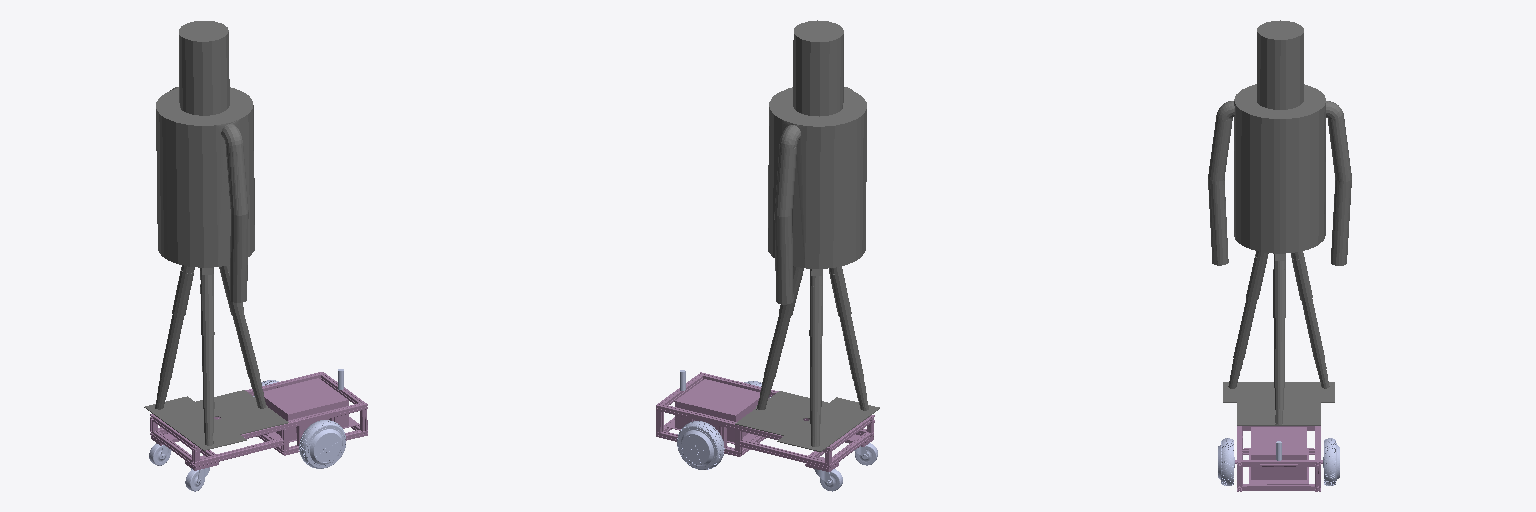
URDF robot description (sophia):
<?xml version="1.0" encoding="utf-8"?>
<!-- This URDF was automatically created by SolidWorks to URDF Exporter! Originally created by [author] ([email redacted]) 
     Commit Version: 1.6.0-4-g7f85cfe  Build Version: 1.6.7995.38578
     For more information, please see http://wiki.ros.org/sw_urdf_exporter -->
<robot
  name="sophia">
  <link
    name="base_link">
    <inertial>
      <origin
        xyz="-0.015616 0.00021121 0.043204"
        rpy="0 0 0" />
      <mass
        value="11" />
      <inertia
        ixx="0.044664"
        ixy="-9.2397E-05"
        ixz="-0.0019638"
        iyy="0.14818"
        iyz="3.5651E-05"
        izz="0.17986" />
    </inertial>
    <visual>
      <origin
        xyz="0 0 0"
        rpy="0 0 0" />
      <geometry>
        <mesh
          filename="package://sophia/meshes/base_link.STL" />
      </geometry>
      <material
        name="">
        <color
          rgba="0.68627 0.56078 0.68627 1" />
      </material>
    </visual>
    <collision>
      <origin
        xyz="0 0 0"
        rpy="0 0 0" />
      <geometry>
        <mesh
          filename="package://sophia/meshes/base_link.STL" />
      </geometry>
    </collision>
  </link>
  <link
    name="left_wheel">
    <inertial>
      <origin
        xyz="6.0018E-10 -0.030086 1.3569E-08"
        rpy="0 0 0" />
      <mass
        value="1.5" />
      <inertia
        ixx="0.0015953"
        ixy="-1.1272E-10"
        ixz="-1.5097E-10"
        iyy="0.0028925"
        iyz="-3.0787E-10"
        izz="0.0015953" />
    </inertial>
    <visual>
      <origin
        xyz="0 0 0"
        rpy="0 0 0" />
      <geometry>
        <mesh
          filename="package://sophia/meshes/left_wheel.STL" />
      </geometry>
      <material
        name="">
        <color
          rgba="0.79216 0.81961 0.93333 1" />
      </material>
    </visual>
    <collision>
      <origin
        xyz="0 0 0"
        rpy="0 0 0" />
      <geometry>
        <mesh
          filename="package://sophia/meshes/left_wheel.STL" />
      </geometry>
    </collision>
  </link>
  <joint
    name="left_joint"
    type="continuous">
    <origin
      xyz="0 0.21465 0"
      rpy="0 0 0" />
    <parent
      link="base_link" />
    <child
      link="left_wheel" />
    <axis
      xyz="0 1 0" />
  </joint>
  <link
    name="right_link">
    <inertial>
      <origin
        xyz="9.3153E-09 0.030086 6.8411E-09"
        rpy="0 0 0" />
      <mass
        value="1.5" />
      <inertia
        ixx="0.0015953"
        ixy="2.5101E-10"
        ixz="-4.0198E-10"
        iyy="0.0028925"
        iyz="1.1863E-10"
        izz="0.0015953" />
    </inertial>
    <visual>
      <origin
        xyz="0 0 0"
        rpy="0 0 0" />
      <geometry>
        <mesh
          filename="package://sophia/meshes/right_link.STL" />
      </geometry>
      <material
        name="">
        <color
          rgba="0.79216 0.81961 0.93333 1" />
      </material>
    </visual>
    <collision>
      <origin
        xyz="0 0 0"
        rpy="0 0 0" />
      <geometry>
        <mesh
          filename="package://sophia/meshes/right_link.STL" />
      </geometry>
    </collision>
  </link>
  <joint
    name="right_joint"
    type="continuous">
    <origin
      xyz="0 -0.21465 0"
      rpy="0 0 0" />
    <parent
      link="base_link" />
    <child
      link="right_link" />
    <axis
      xyz="0 1 0" />
  </joint>
  <link
    name="body_link">
    <inertial>
      <origin
        xyz="-0.040232 0.0060133 0.90823"
        rpy="0 0 0" />
      <mass
        value="18" />
      <inertia
        ixx="3.7198"
        ixy="0.0040108"
        ixz="0.073471"
        iyy="3.5654"
        iyz="0.03148"
        izz="0.84512" />
    </inertial>
    <visual>
      <origin
        xyz="0 0 0"
        rpy="0 0 0" />
      <geometry>
        <mesh
          filename="package://sophia/meshes/body_link.STL" />
      </geometry>
      <material
        name="">
        <color
          rgba="0.50196 0.50196 0.50196 1" />
      </material>
    </visual>
    <collision>
      <origin
        xyz="0 0 0"
        rpy="0 0 0" />
      <geometry>
        <mesh
          filename="package://sophia/meshes/body_link.STL" />
      </geometry>
    </collision>
  </link>
  <joint
    name="body_joint"
    type="fixed">
    <origin
      xyz="-0.30568 -0.00012419 0.094881"
      rpy="0 0 0" />
    <parent
      link="base_link" />
    <child
      link="body_link" />
    <axis
      xyz="0 0 0" />
  </joint>
  <link
    name="caster_back_left_sup">
    <inertial>
      <origin
        xyz="-0.010376 -0.0008225 -0.013988"
        rpy="0 0 0" />
      <mass
        value="0.017007" />
      <inertia
        ixx="9.225E-06"
        ixy="1.9462E-07"
        ixz="-2.5895E-06"
        iyy="9.3325E-06"
        iyz="-6.9504E-08"
        izz="1.0476E-05" />
    </inertial>
    <visual>
      <origin
        xyz="0 0 0"
        rpy="0 0 0" />
      <geometry>
        <mesh
          filename="package://sophia/meshes/caster_back_left_sup.STL" />
      </geometry>
      <material
        name="">
        <color
          rgba="0.79216 0.81961 0.93333 1" />
      </material>
    </visual>
    <collision>
      <origin
        xyz="0 0 0"
        rpy="0 0 0" />
      <geometry>
        <mesh
          filename="package://sophia/meshes/caster_back_left_sup.STL" />
      </geometry>
    </collision>
  </link>
  <joint
    name="caster_back_left_sup_joint"
    type="continuous">
    <origin
      xyz="-0.42943 0.11596 -0.0032205"
      rpy="0 0 0" />
    <parent
      link="base_link" />
    <child
      link="caster_back_left_sup" />
    <axis
      xyz="0.00020492 0 1" />
  </joint>
  <link
    name="caster_back_left_link">
    <inertial>
      <origin
        xyz="-3.0329E-06 2.3749E-05 6.2373E-10"
        rpy="0 0 0" />
      <mass
        value="0.1184" />
      <inertia
        ixx="4.8162E-05"
        ixy="-4.1946E-06"
        ixz="-1.1016E-10"
        iyy="8.0472E-05"
        iyz="8.6263E-10"
        izz="4.7626E-05" />
    </inertial>
    <visual>
      <origin
        xyz="0 0 0"
        rpy="0 0 0" />
      <geometry>
        <mesh
          filename="package://sophia/meshes/caster_back_left_link.STL" />
      </geometry>
      <material
        name="">
        <color
          rgba="0.79216 0.81961 0.93333 1" />
      </material>
    </visual>
    <collision>
      <origin
        xyz="0 0 0"
        rpy="0 0 0" />
      <geometry>
        <mesh
          filename="package://sophia/meshes/caster_back_left_link.STL" />
      </geometry>
    </collision>
  </link>
  <joint
    name="caster_back_left_joint"
    type="continuous">
    <origin
      xyz="-0.033901 -0.0051284 -0.044649"
      rpy="0 0 0" />
    <parent
      link="caster_back_left_sup" />
    <child
      link="caster_back_left_link" />
    <axis
      xyz="0.12668 -0.99194 -2.6051E-05" />
  </joint>
  <link
    name="caster_back_right_sup">
    <inertial>
      <origin
        xyz="-0.010034 -0.0027692 -0.013988"
        rpy="0 0 0" />
      <mass
        value="0.017007" />
      <inertia
        ixx="9.1566E-06"
        ixy="1.6084E-07"
        ixz="-2.5296E-06"
        iyy="9.4009E-06"
        iyz="-5.5794E-07"
        izz="1.0476E-05" />
    </inertial>
    <visual>
      <origin
        xyz="0 0 0"
        rpy="0 0 0" />
      <geometry>
        <mesh
          filename="package://sophia/meshes/caster_back_right_sup.STL" />
      </geometry>
      <material
        name="">
        <color
          rgba="0.79216 0.81961 0.93333 1" />
      </material>
    </visual>
    <collision>
      <origin
        xyz="0 0 0"
        rpy="0 0 0" />
      <geometry>
        <mesh
          filename="package://sophia/meshes/caster_back_right_sup.STL" />
      </geometry>
    </collision>
  </link>
  <joint
    name="caster_back_right_sup_joint"
    type="continuous">
    <origin
      xyz="-0.42943 -0.11529 -0.0032205"
      rpy="0 0 0" />
    <parent
      link="base_link" />
    <child
      link="caster_back_right_sup" />
    <axis
      xyz="0.00020492 0 1" />
  </joint>
  <link
    name="caster_back_right_link">
    <inertial>
      <origin
        xyz="-7.469E-06 2.2747E-05 1.5327E-09"
        rpy="0 0 0" />
      <mass
        value="0.1184" />
      <inertia
        ixx="5.0875E-05"
        ixy="-9.894E-06"
        ixz="-6.6665E-10"
        iyy="7.7759E-05"
        iyz="2.0303E-09"
        izz="4.7626E-05" />
    </inertial>
    <visual>
      <origin
        xyz="0 0 0"
        rpy="0 0 0" />
      <geometry>
        <mesh
          filename="package://sophia/meshes/caster_back_right_link.STL" />
      </geometry>
      <material
        name="">
        <color
          rgba="0.79216 0.81961 0.93333 1" />
      </material>
    </visual>
    <collision>
      <origin
        xyz="0 0 0"
        rpy="0 0 0" />
      <geometry>
        <mesh
          filename="package://sophia/meshes/caster_back_right_link.STL" />
      </geometry>
    </collision>
  </link>
  <joint
    name="caster_back_right_joint"
    type="continuous">
    <origin
      xyz="-0.032815 -0.0099362 -0.044649"
      rpy="0 0 0" />
    <parent
      link="caster_back_right_sup" />
    <child
      link="caster_back_right_link" />
    <axis
      xyz="0.31196 -0.95009 -6.4016E-05" />
  </joint>
  <link
    name="hokuyo_link">
    <inertial>
      <origin
        xyz="-7.1723E-06 3.2528E-09 -0.035"
        rpy="0 0 0" />
      <mass
        value="0.021991" />
      <inertia
        ixx="9.5295E-06"
        ixy="1.6055E-16"
        ixz="-1.7275E-09"
        iyy="9.5295E-06"
        iyz="7.8346E-13"
        izz="1.0996E-06" />
    </inertial>
    <visual>
      <origin
        xyz="0 0 0"
        rpy="0 0 0" />
      <geometry>
        <mesh
          filename="package://sophia/meshes/hokuyo_link.STL" />
      </geometry>
      <material
        name="">
        <color
          rgba="0.79216 0.81961 0.93333 1" />
      </material>
    </visual>
    <collision>
      <origin
        xyz="0 0 0"
        rpy="0 0 0" />
      <geometry>
        <mesh
          filename="package://sophia/meshes/hokuyo_link.STL" />
      </geometry>
    </collision>
  </link>
  <joint
    name="hokuyo_joint"
    type="fixed">
    <origin
      xyz="0.17566 0 0.16111"
      rpy="0 0 0" />
    <parent
      link="base_link" />
    <child
      link="hokuyo_link" />
    <axis
      xyz="0 0 0" />
  </joint>






  <gazebo reference="hokuyo_link">
    <material>Gazebo/FlatBlack</material>
    <sensor type="ray" name="lds_lfcd_sensor">
      <pose>0 0 0 0 0 0</pose>
      <visualize>true</visualize>
      <update_rate>5</update_rate>
      <ray>
        <scan>
          <horizontal>
            <samples>24</samples>
            <resolution>1</resolution>
            <min_angle>-1.57</min_angle>
            <max_angle>1.57</max_angle>
          </horizontal>
        </scan>
        <range>
          <min>0.120</min>
          <max>3.5</max>
          <resolution>0.015</resolution>
        </range>
        <noise>
          <type>gaussian</type>
          <mean>0.0</mean>
          <stddev>0.01</stddev>
        </noise>
      </ray>
      <plugin name="gazebo_ros_lds_lfcd_controller" filename="libgazebo_ros_laser.so">
        <topicName>scan</topicName>
        <frameName>hokyuo_link</frameName>
      </plugin>
    </sensor>
  </gazebo>



  <gazebo reference="base_link">
    <material>Gazebo/DarkGrey</material>
  </gazebo>

  <gazebo reference="left_wheel">
   <mu1>0.4</mu1>
    <mu2>0.4</mu2>
    <kp>500000.0</kp>
    <kd>10.0</kd>
    <minDepth>0.001</minDepth>
    <maxVel>0.1</maxVel>
    <fdir1>1 0 0</fdir1>
    <material>Gazebo/FlatBlack</material>
  </gazebo>

  <gazebo reference="right_link">
   <mu1>0.4</mu1>
    <mu2>0.4</mu2>
    <kp>500000.0</kp>
    <kd>10.0</kd>
    <minDepth>0.001</minDepth>
    <maxVel>0.1</maxVel>
    <fdir1>1 0 0</fdir1>
    <material>Gazebo/FlatBlack</material>
  </gazebo>

  <gazebo reference="caster_back_right_link">
   <mu1>0.4</mu1>
    <mu2>0.4</mu2>
    <kp>1000000.0</kp>
    <kd>100.0</kd>
    <minDepth>0.001</minDepth>
    <maxVel>1.0</maxVel>
    <material>Gazebo/FlatBlack</material>
  </gazebo>

  <gazebo reference="caster_back_left_link">
   <mu1>0.4</mu1>
    <mu2>0.4</mu2>
    <kp>1000000.0</kp>
    <kd>100.0</kd>
    <minDepth>0.001</minDepth>
    <maxVel>1.0</maxVel>
    <material>Gazebo/FlatBlack</material>
  </gazebo>



   <gazebo>
    <plugin name="turtlebot3_waffle_pi_controller" filename="libgazebo_ros_diff_drive.so">
      <commandTopic>cmd_vel</commandTopic>
      <odometryTopic>odom</odometryTopic>
      <odometryFrame>odom</odometryFrame>
      <odometrySource>world</odometrySource>
      <publishOdomTF>true</publishOdomTF>
      <robotBaseFrame>base_link</robotBaseFrame>
      <publishWheelTF>false</publishWheelTF>
      <publishTf>true</publishTf>
      <publishWheelJointState>true</publishWheelJointState>
      <legacyMode>false</legacyMode>
      <updateRate>30</updateRate>
      <leftJoint>left_joint</leftJoint>
      <rightJoint>right_joint</rightJoint>
      <wheelSeparation>0.43</wheelSeparation>
      <wheelDiameter>0.22</wheelDiameter>
      <wheelAcceleration>1</wheelAcceleration>
      <wheelTorque>10</wheelTorque>
      <rosDebugLevel>na</rosDebugLevel>
    </plugin>
  </gazebo>
</robot>

--- Facts derived from the render (not from the file) ---
3 views of the same robot in one strip: view 1: azimuth 30°, elevation 25°; view 2: azimuth 150°, elevation 25°; view 3: azimuth 270°, elevation 25° (orthographic).
Robot: sophia — 9 links, 8 joints (6 continuous, 2 fixed); root link base_link; default pose: all joints at 0.
Links seen in each view (by area): view 1: body_link, base_link, right_link; view 2: body_link, base_link, left_wheel; view 3: body_link, base_link, right_link, left_wheel.
Boxes of the visible links, bbox=[...] form: body_link: bbox=[144, 21, 288, 450]; base_link: bbox=[150, 372, 367, 470]; right_link: bbox=[299, 420, 345, 468]; body_link: bbox=[735, 20, 879, 451]; base_link: bbox=[656, 372, 874, 471]; left_wheel: bbox=[677, 421, 724, 469]; body_link: bbox=[1208, 20, 1351, 425]; base_link: bbox=[1235, 426, 1322, 491]; right_link: bbox=[1218, 438, 1234, 485]; left_wheel: bbox=[1323, 438, 1339, 485].
Bounding box of the posed robot: 0.709 × 0.5159 × 1.63 m (x, y, z).
Meshes: 9 distinct files referenced, 9 mesh visuals loaded (9 binary STL).
